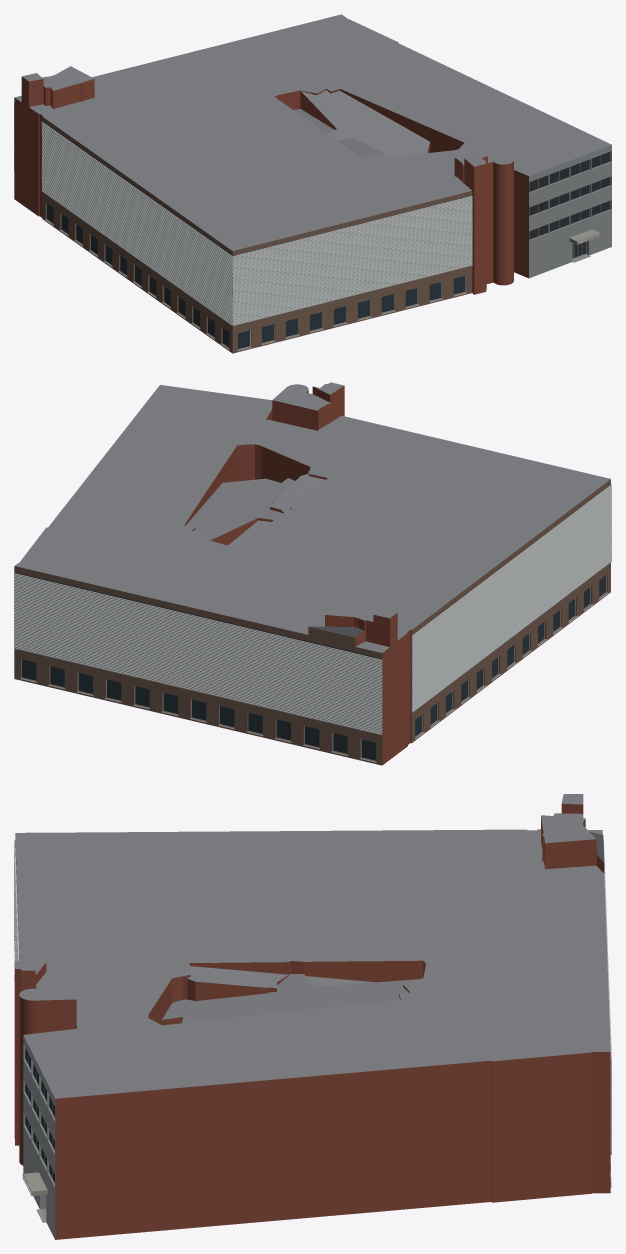
Rendered from recipe-large-haarlemmerweg-325-110408.glb.
3 views of the same model, one above another, from view 1: azimuth 30°, elevation 25°; view 2: azimuth 150°, elevation 25°; view 3: azimuth 270°, elevation 25° (orthographic). The views are drawn at different scales.
Parts seen in each view (by area): view 1: haarlemmerweg-325-110408; view 2: haarlemmerweg-325-110408; view 3: haarlemmerweg-325-110408.
Boxes of the visible parts, <box> form: haarlemmerweg-325-110408: <box>14,14,611,353</box>; haarlemmerweg-325-110408: <box>14,382,611,765</box>; haarlemmerweg-325-110408: <box>14,794,611,1239</box>.
Size of the model in its own units: 62.26 by 19.07 by 58.43.
